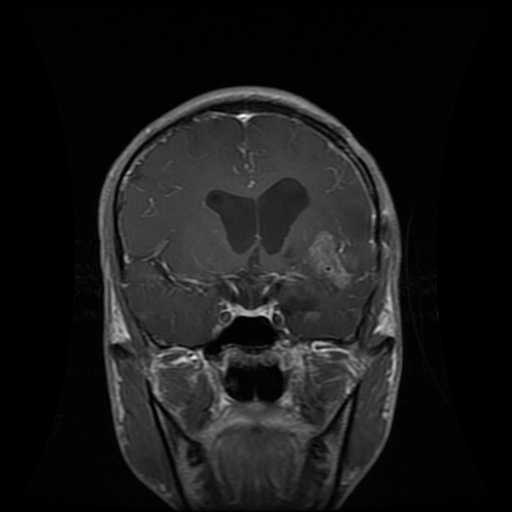glioma: (304, 227, 362, 291)
